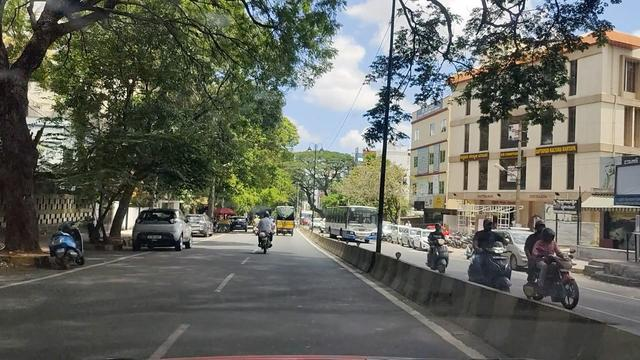LMV: (131, 210, 200, 252), (244, 211, 278, 248)
